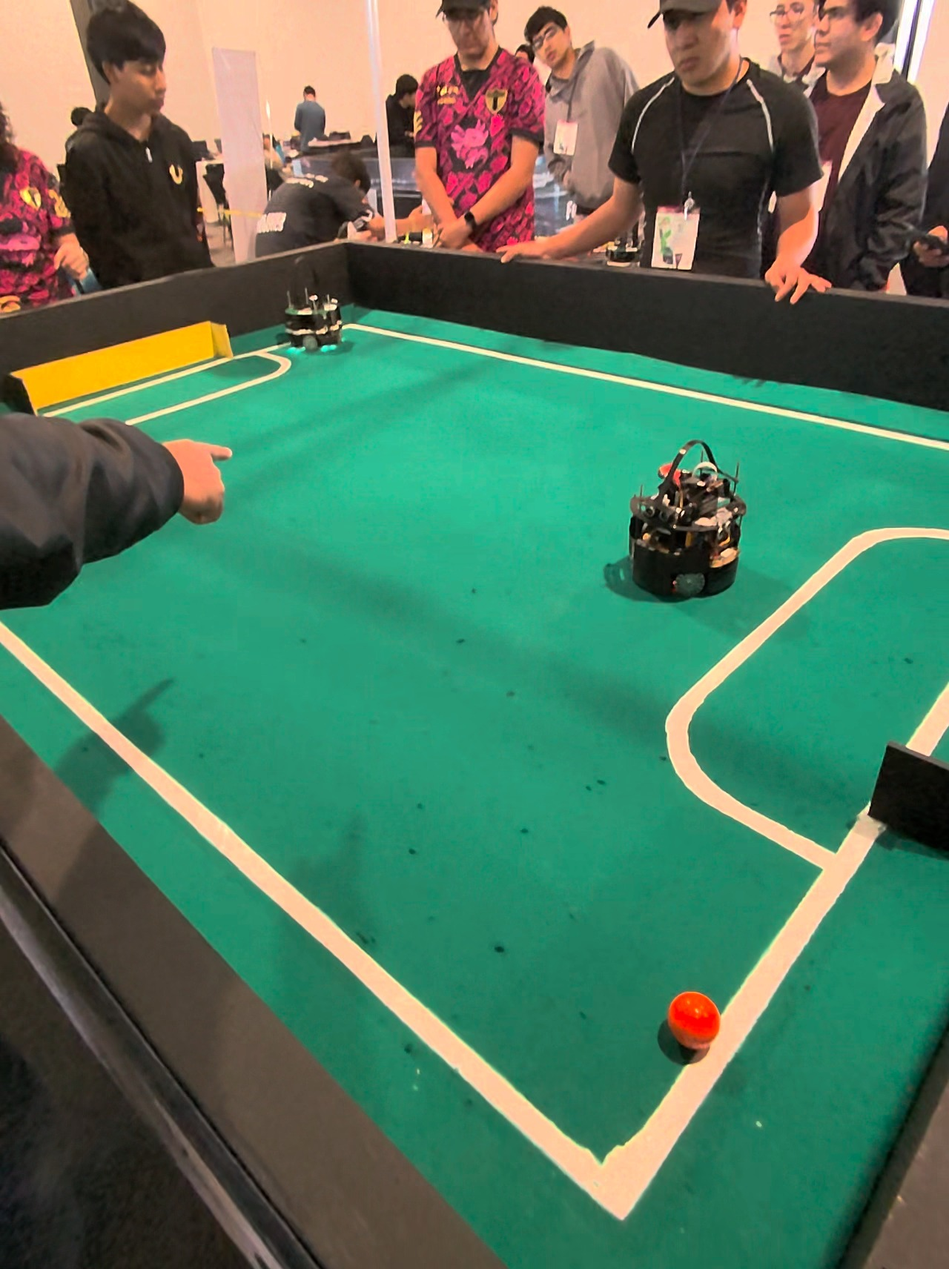Robot: (625, 435, 745, 612), (277, 248, 358, 369)
pelota: (662, 994, 720, 1055)
